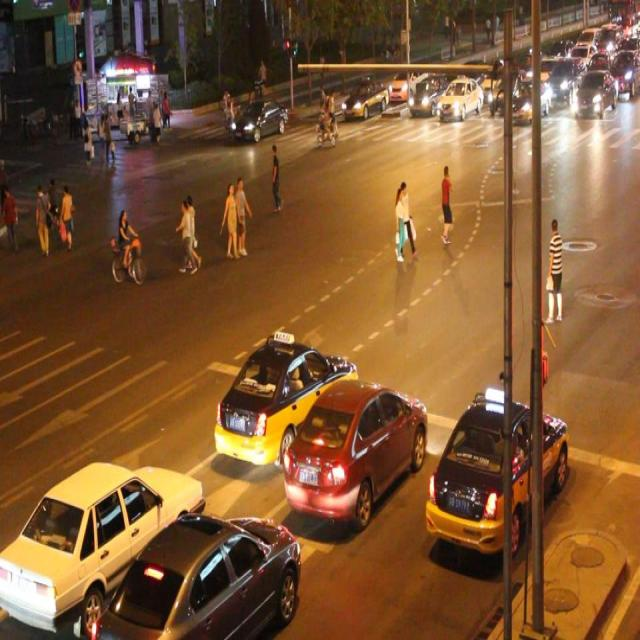car: (1, 454, 204, 630), (95, 513, 300, 640), (424, 397, 568, 554), (283, 379, 425, 523), (212, 336, 357, 472), (232, 99, 288, 138), (341, 76, 388, 120), (438, 73, 481, 121), (409, 72, 445, 115)
